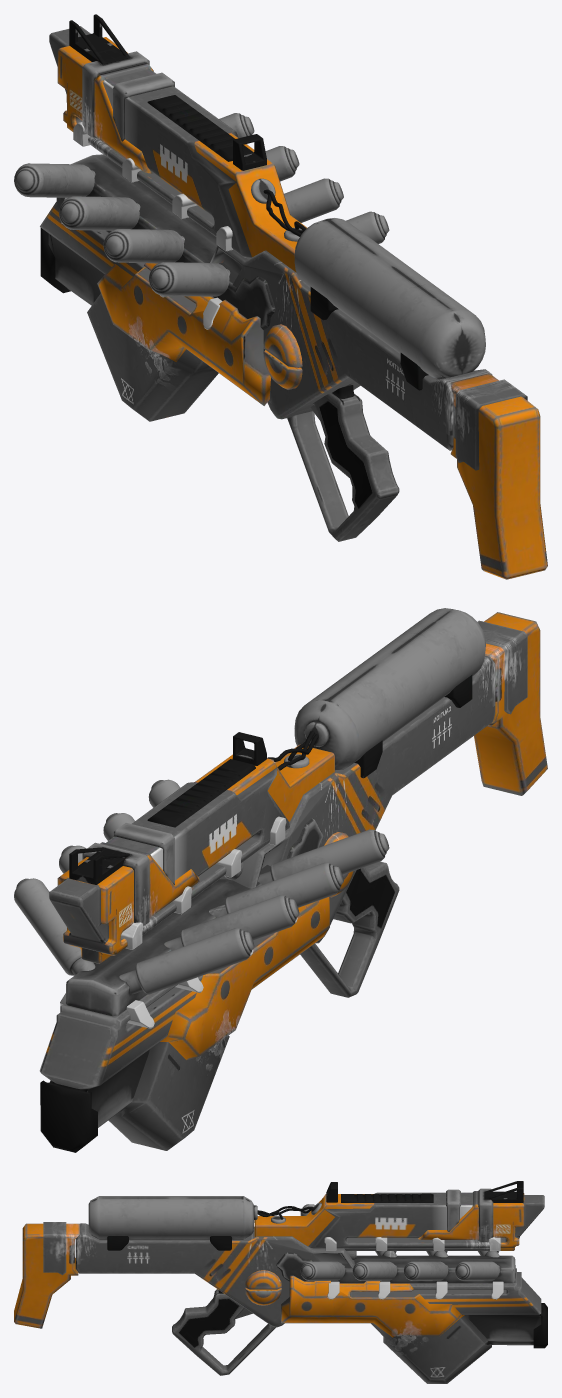
Rendered from weapon-scene-transformed.glb.
3 renders of one model, top to bottom at view 1: azimuth 30°, elevation 25°; view 2: azimuth 150°, elevation 25°; view 3: azimuth 270°, elevation 25°, orthographic. The views are drawn at different scales.
Parts seen in each view (by area): view 1: Cyborg_Weapon_Cyborg_Weapon_mat_0; view 2: Cyborg_Weapon_Cyborg_Weapon_mat_0; view 3: Cyborg_Weapon_Cyborg_Weapon_mat_0.
Boxes of the visible parts, x1=… form: Cyborg_Weapon_Cyborg_Weapon_mat_0: x1=14, y1=14, x2=547, y2=579; Cyborg_Weapon_Cyborg_Weapon_mat_0: x1=14, y1=608, x2=547, y2=1152; Cyborg_Weapon_Cyborg_Weapon_mat_0: x1=14, y1=1181, x2=547, y2=1383.
Bounding box in the file's own units: 0.3677 × 0.504 × 1.26.
Materials: 1 (1 with a texture image).
